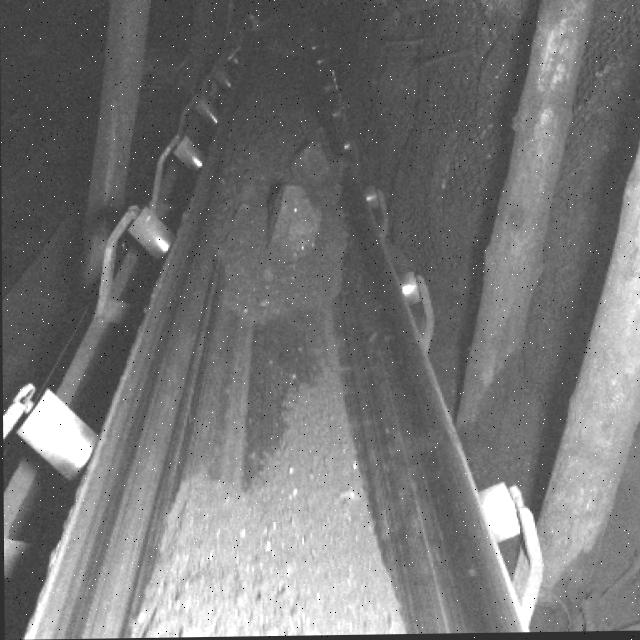large_sized_coal: (268, 181, 320, 260), (294, 140, 330, 186)
